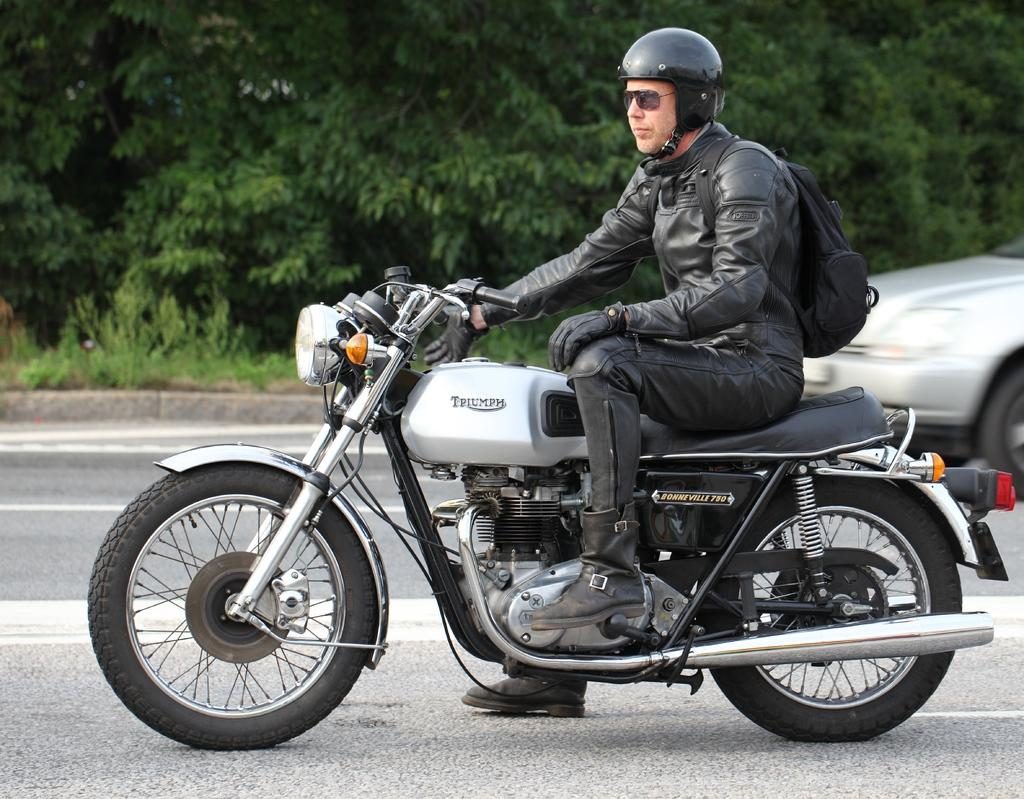helmet: (619, 27, 726, 151)
